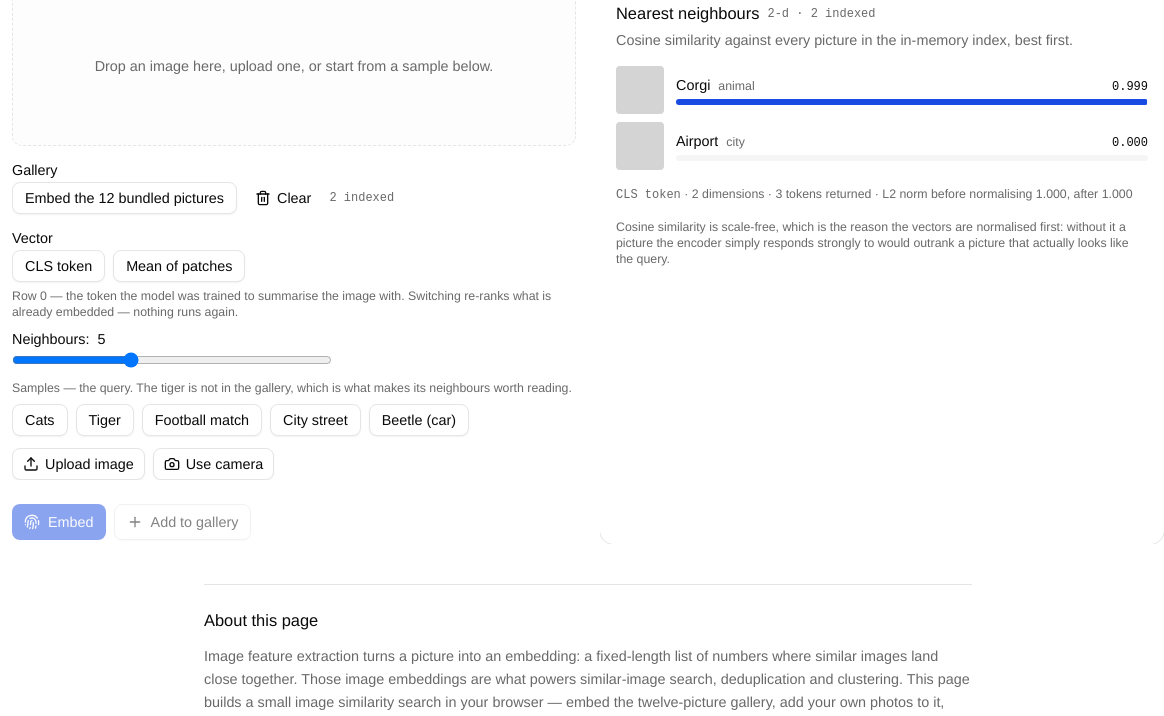
Test: ImageFeaturesPage › re-ranks on a k change without a run
(page scrolled)
Expected: the list with test id "neighbours" is shown, [616, 66, 1148, 170]
Expected: the number of list items is 2, [616, 66, 1148, 114]; [616, 122, 1148, 170]
Set the slider labelled "Neighbours: 5" to "1": (20, 360) [12, 352, 332, 368]
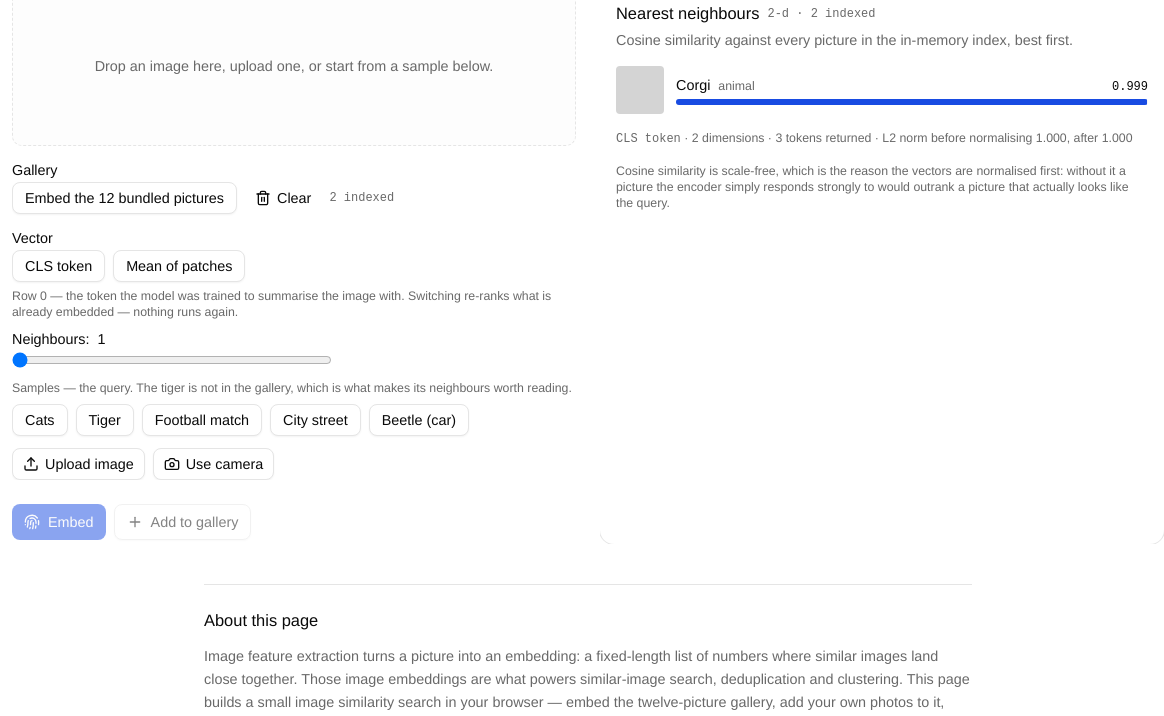
Expected: the number of list items is 1, [616, 66, 1148, 114]
